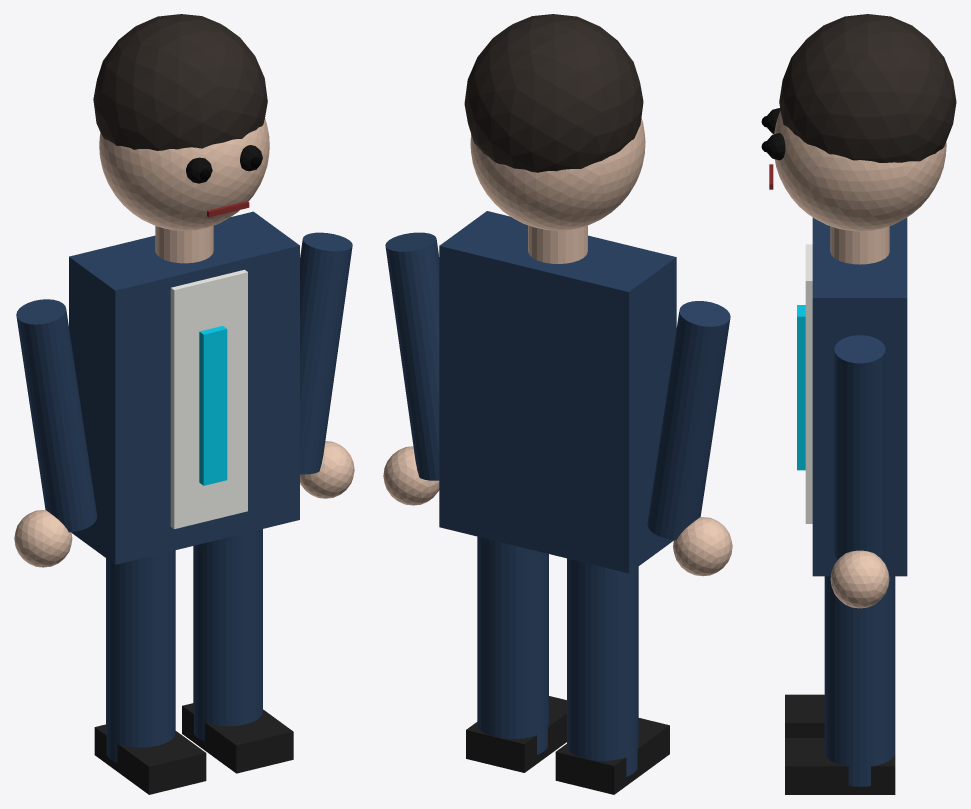
Rendered from instructor.glb.
3 views of the same model, side by side, from view 1: azimuth 30°, elevation 25°; view 2: azimuth 150°, elevation 25°; view 3: azimuth 270°, elevation 25° (orthographic). The views are drawn at different scales.
Visible parts, largest first — view 1: instructor_part_4, instructor_part_9, instructor_part_5, instructor_part_0, instructor_part_1, instructor_part_10, instructor_part_8, instructor_part_11, instructor_part_6, instructor_part_2, instructor_part_3, instructor_part_12 (+2 smaller); view 2: instructor_part_4, instructor_part_9, instructor_part_0, instructor_part_1, instructor_part_10, instructor_part_11, instructor_part_8, instructor_part_2, instructor_part_3, instructor_part_12, instructor_part_13, instructor_part_7; view 3: instructor_part_9, instructor_part_4, instructor_part_1, instructor_part_11, instructor_part_8, instructor_part_3, instructor_part_13, instructor_part_5, instructor_part_7, instructor_part_2, instructor_part_6, instructor_part_15.
Part boxes in pixels (x1,y1,x2,y2): instructor_part_4: [69, 211, 299, 564]; instructor_part_9: [93, 14, 267, 150]; instructor_part_5: [170, 269, 247, 529]; instructor_part_0: [106, 550, 175, 762]; instructor_part_1: [193, 529, 262, 741]; instructor_part_10: [16, 299, 97, 532]; instructor_part_8: [99, 118, 269, 230]; instructor_part_11: [300, 232, 352, 474]; instructor_part_6: [199, 326, 227, 485]; instructor_part_2: [94, 724, 206, 794]; instructor_part_3: [182, 703, 293, 773]; instructor_part_12: [14, 510, 72, 567]; instructor_part_4: [439, 211, 676, 573]; instructor_part_9: [464, 14, 643, 172]; instructor_part_0: [567, 558, 638, 776]; instructor_part_1: [477, 536, 548, 754]; instructor_part_10: [647, 301, 730, 539]; instructor_part_11: [385, 232, 439, 480]; instructor_part_8: [470, 118, 645, 230]; instructor_part_2: [555, 718, 669, 794]; instructor_part_3: [466, 696, 566, 772]; instructor_part_12: [673, 517, 732, 576]; instructor_part_13: [383, 446, 439, 505]; instructor_part_7: [528, 225, 587, 263]; instructor_part_9: [779, 14, 956, 162]; instructor_part_4: [812, 217, 907, 576]; instructor_part_1: [824, 576, 895, 786]; instructor_part_11: [834, 335, 885, 559]; instructor_part_8: [774, 111, 946, 231]; instructor_part_3: [785, 738, 895, 794]; instructor_part_13: [830, 550, 889, 608]; instructor_part_5: [805, 244, 812, 523]; instructor_part_7: [830, 226, 889, 264]; instructor_part_2: [785, 694, 824, 737]; instructor_part_6: [797, 305, 805, 470]; instructor_part_15: [767, 133, 785, 160].
Size of the model in its own units: 0.99 by 2.07 by 0.495.
